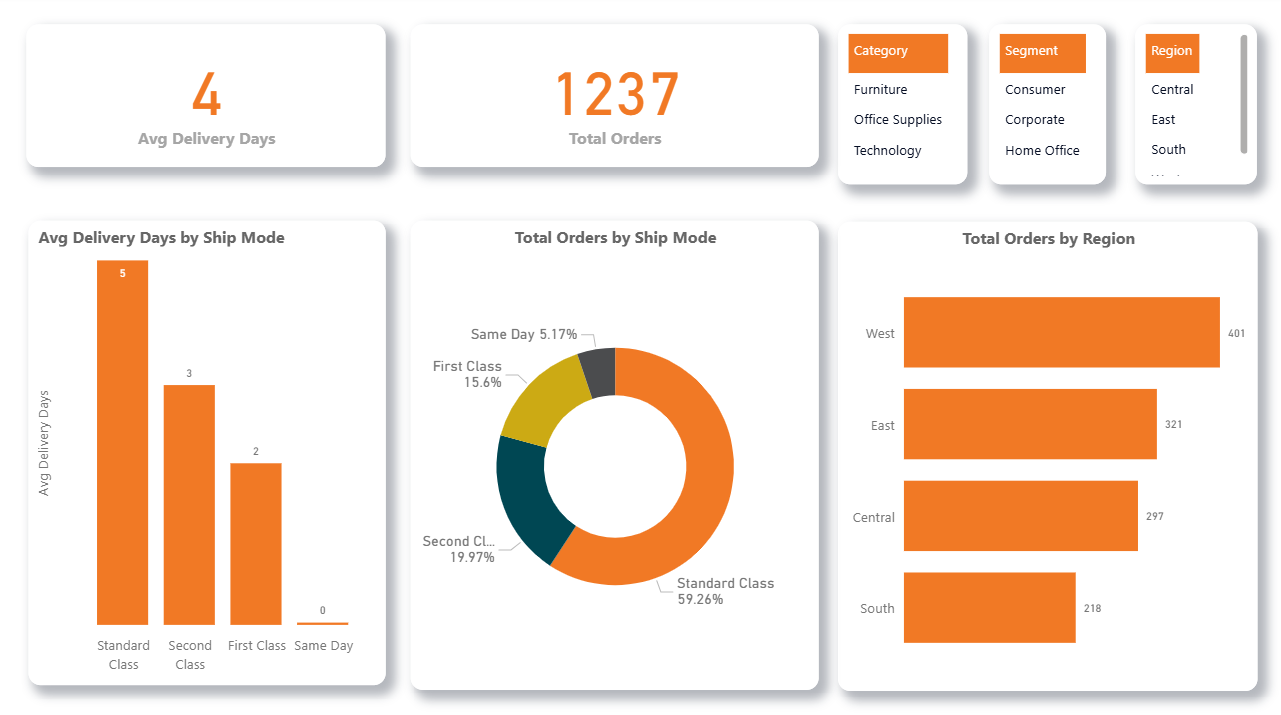

The page's visual inventory and layout, read from the dashboard file:
{"tool":"powerbi","page":{"name":"Shipping and Operational Analysis","canvas":[1280,720],"ordinal":3},"visuals":[{"type":"card","fields":{"Values":["sales_data.Avg Delivery Days"]},"box":[29,27.9,357.4,141.7],"z":0},{"type":"donutChart","title":"Total Orders by Ship Mode","fields":{"Category":["sales_data.Ship Mode"],"Y":["sales_data.Total Orders"]},"box":[411,223.2,405.7,466.8],"z":1000},{"type":"clusteredColumnChart","fields":{"Category":["sales_data.Ship Mode"],"Y":["sales_data.Avg Delivery Days"]},"box":[31.1,223.2,355.2,461.5],"z":2000},{"type":"barChart","fields":{"Category":["sales_data.Region"],"Y":["sales_data.Total Orders"]},"box":[836,224.3,417.5,466.8],"z":3000},{"type":"tableEx","fields":{"Values":["sales_data.Region"]},"box":[1132.2,27.9,121.3,158.8],"z":4000},{"type":"tableEx","fields":{"Values":["sales_data.Category"]},"box":[836,27.9,128.8,158.8],"z":5000},{"type":"tableEx","fields":{"Values":["sales_data.Segment"]},"box":[987.3,27.9,115.9,158.8],"z":6000},{"type":"card","fields":{"Values":["sales_data.Total Orders"]},"box":[411,27.9,405.7,141.7],"z":7000}]}

Visuals, with their boxes in screenshot pixels (x1, y1, x2, y2), scaled from the page's 1280x720 canvas onto the 1281x715 screenshot:
card - sales_data.Avg Delivery Days: 29, 28, 387, 168
"Total Orders by Ship Mode" donutChart: 411, 222, 817, 685
clusteredColumnChart - sales_data.Ship Mode x sales_data.Avg Delivery Days: 31, 222, 387, 680
barChart - sales_data.Region x sales_data.Total Orders: 837, 223, 1254, 686
tableEx - sales_data.Region: 1133, 28, 1254, 185
tableEx - sales_data.Category: 837, 28, 966, 185
tableEx - sales_data.Segment: 988, 28, 1104, 185
card - sales_data.Total Orders: 411, 28, 817, 168
